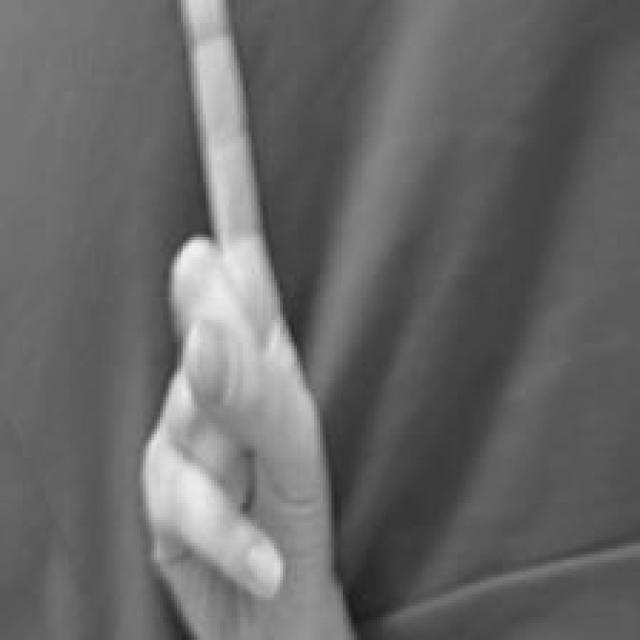I: (137, 0, 356, 640)
